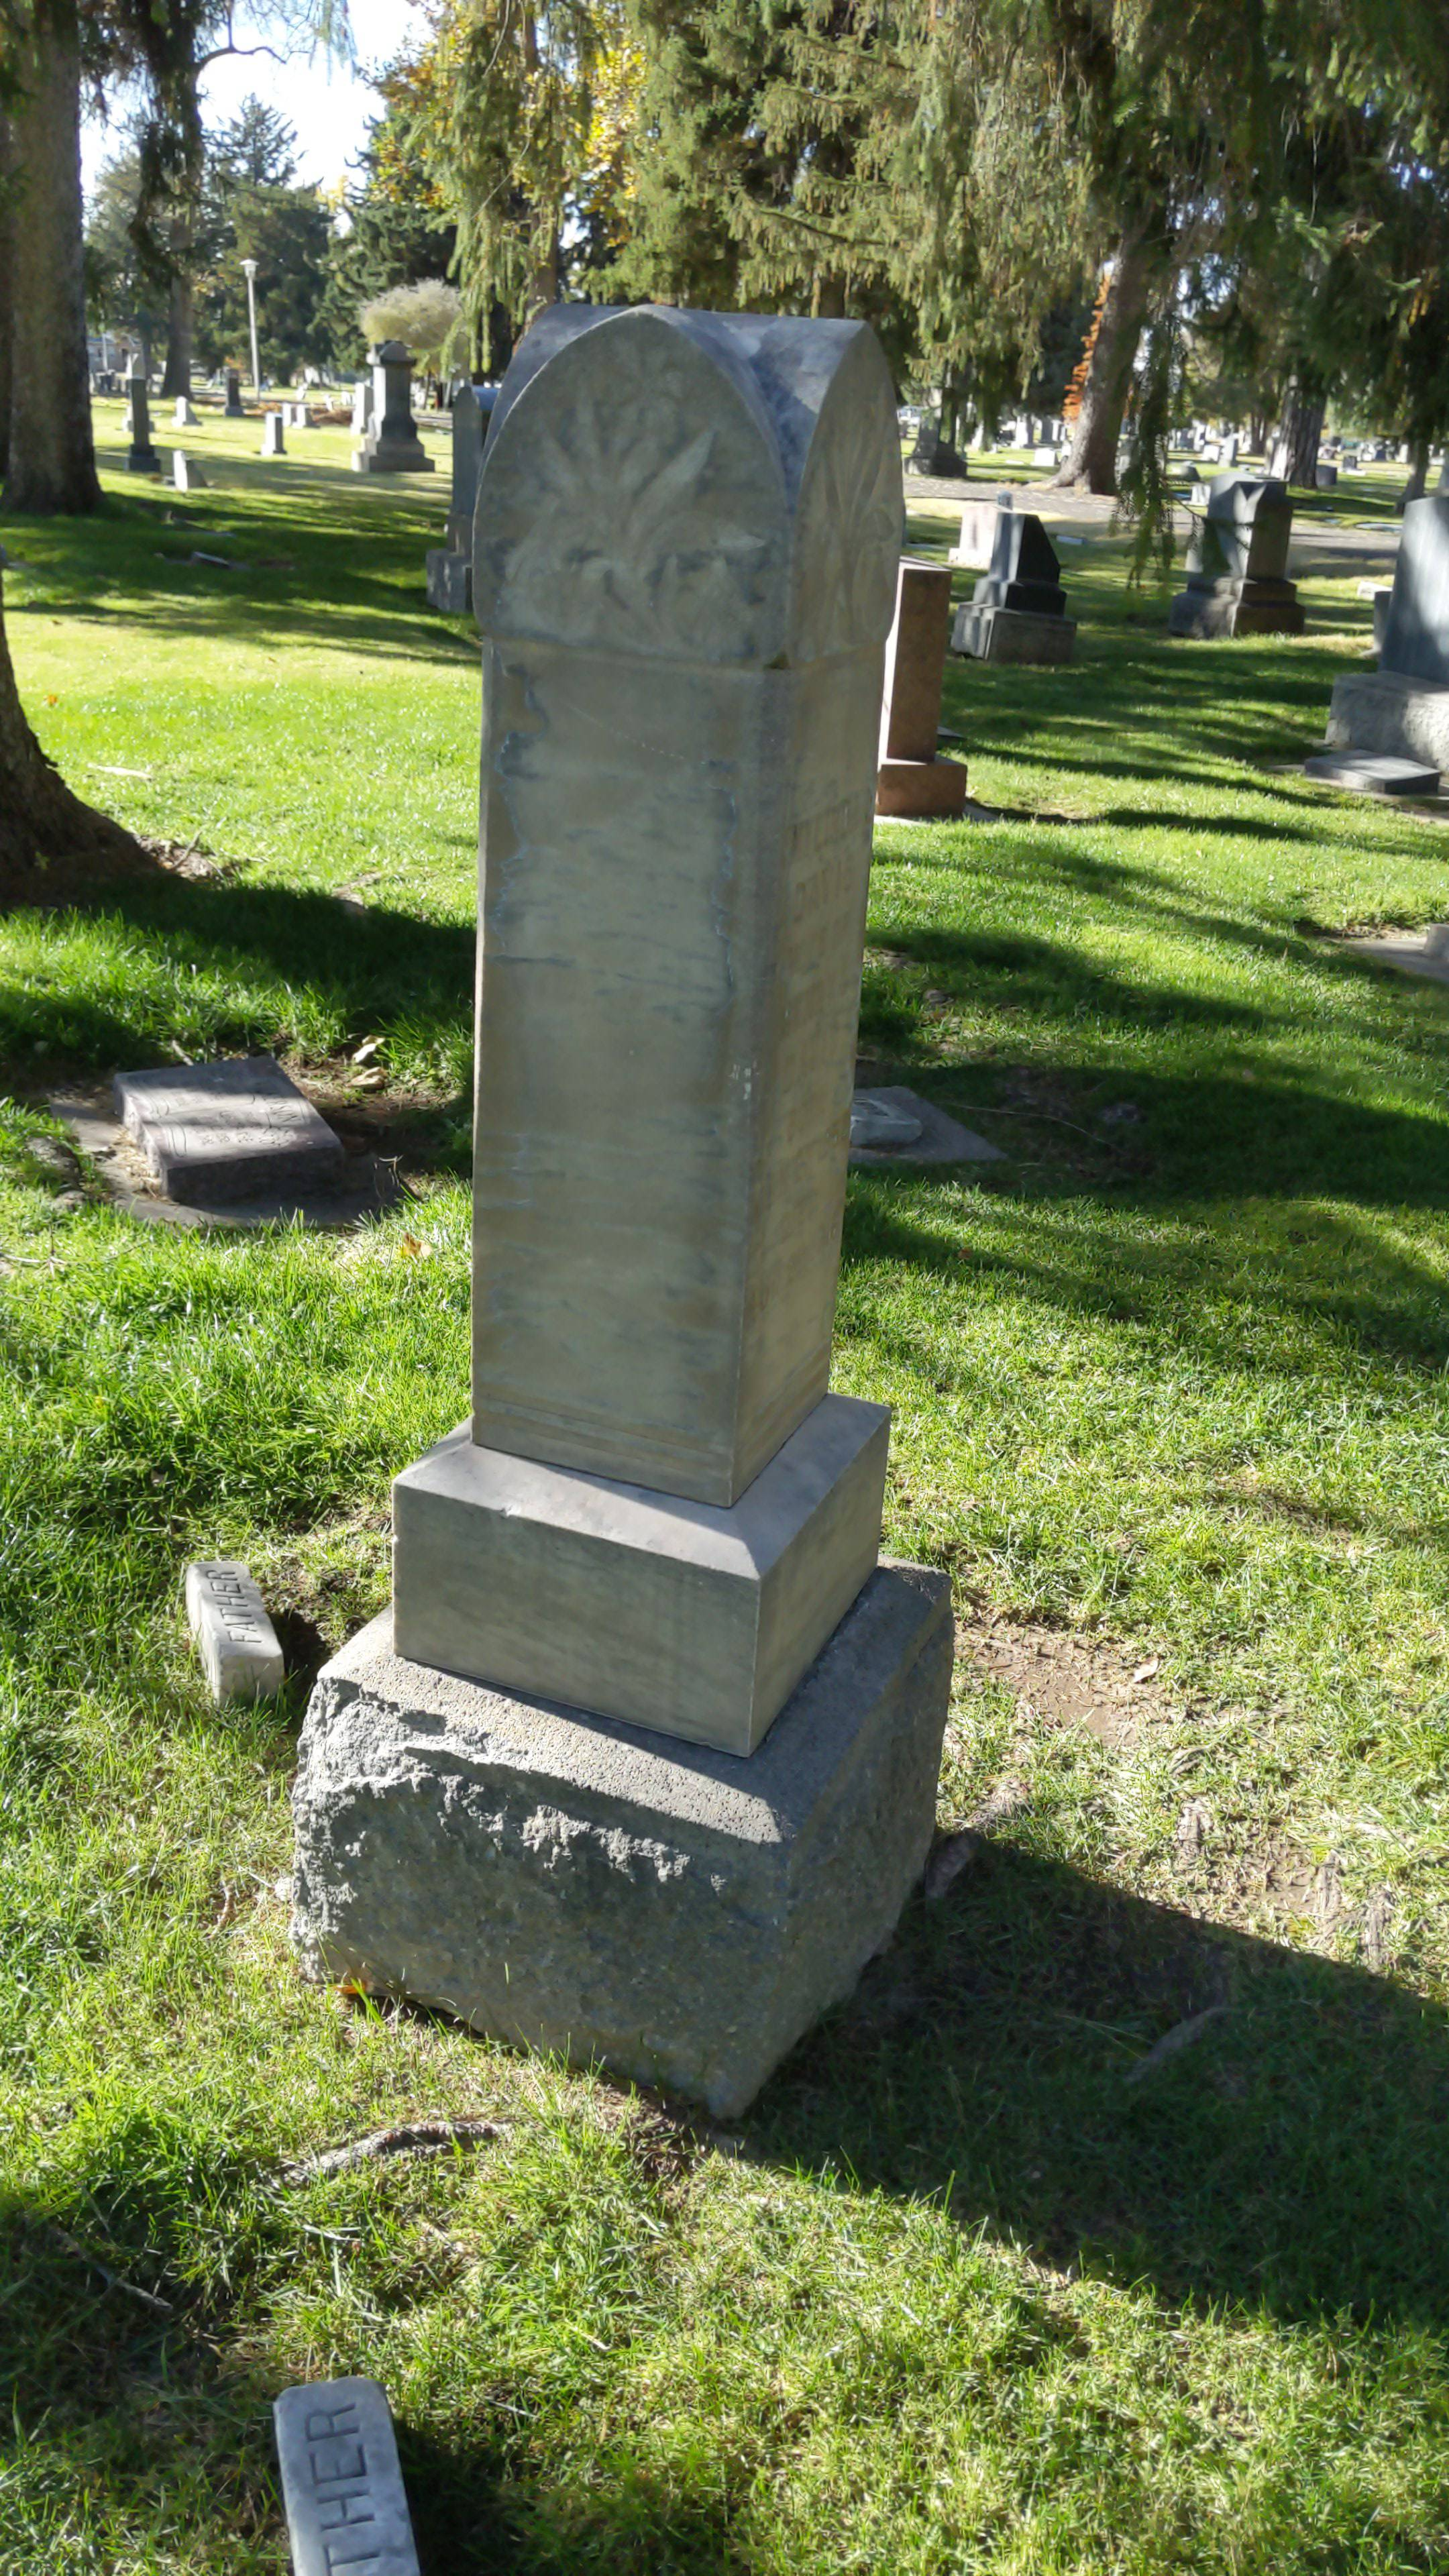obelisk: (396, 310, 885, 1775)
